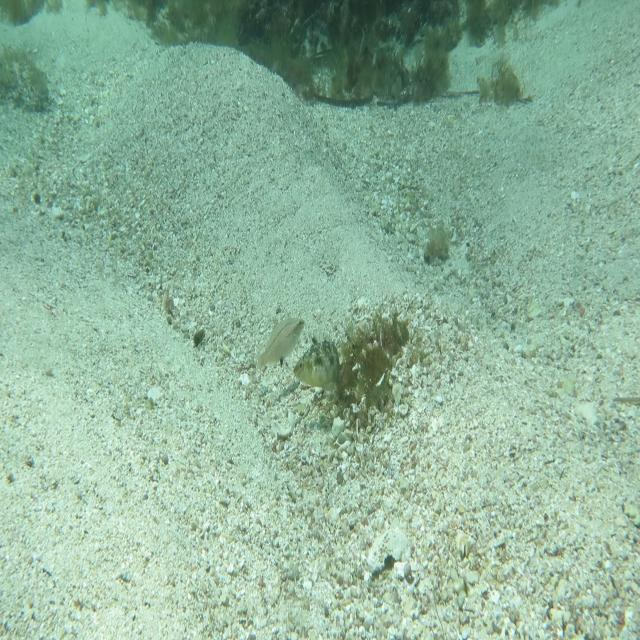BEND: (287, 325, 343, 397)
female: (254, 309, 306, 376)
nest: (318, 298, 412, 433)
vegetation: (244, 0, 512, 71), (421, 218, 454, 272)
